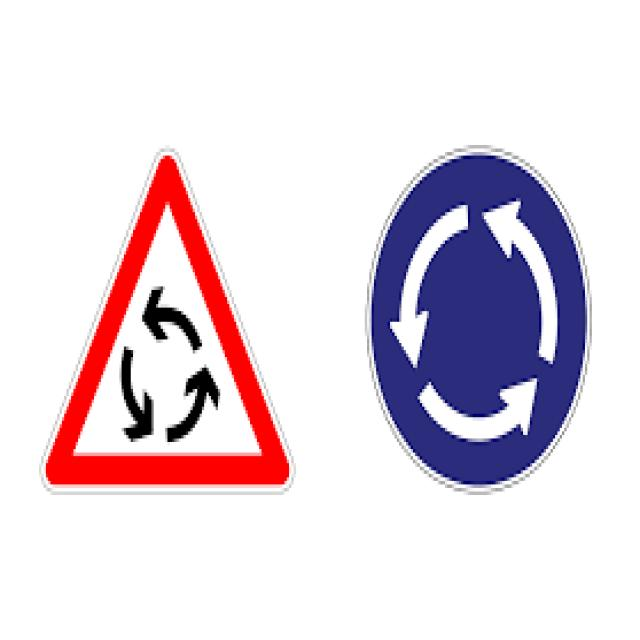SensGiratoire: (42, 145, 299, 495)
